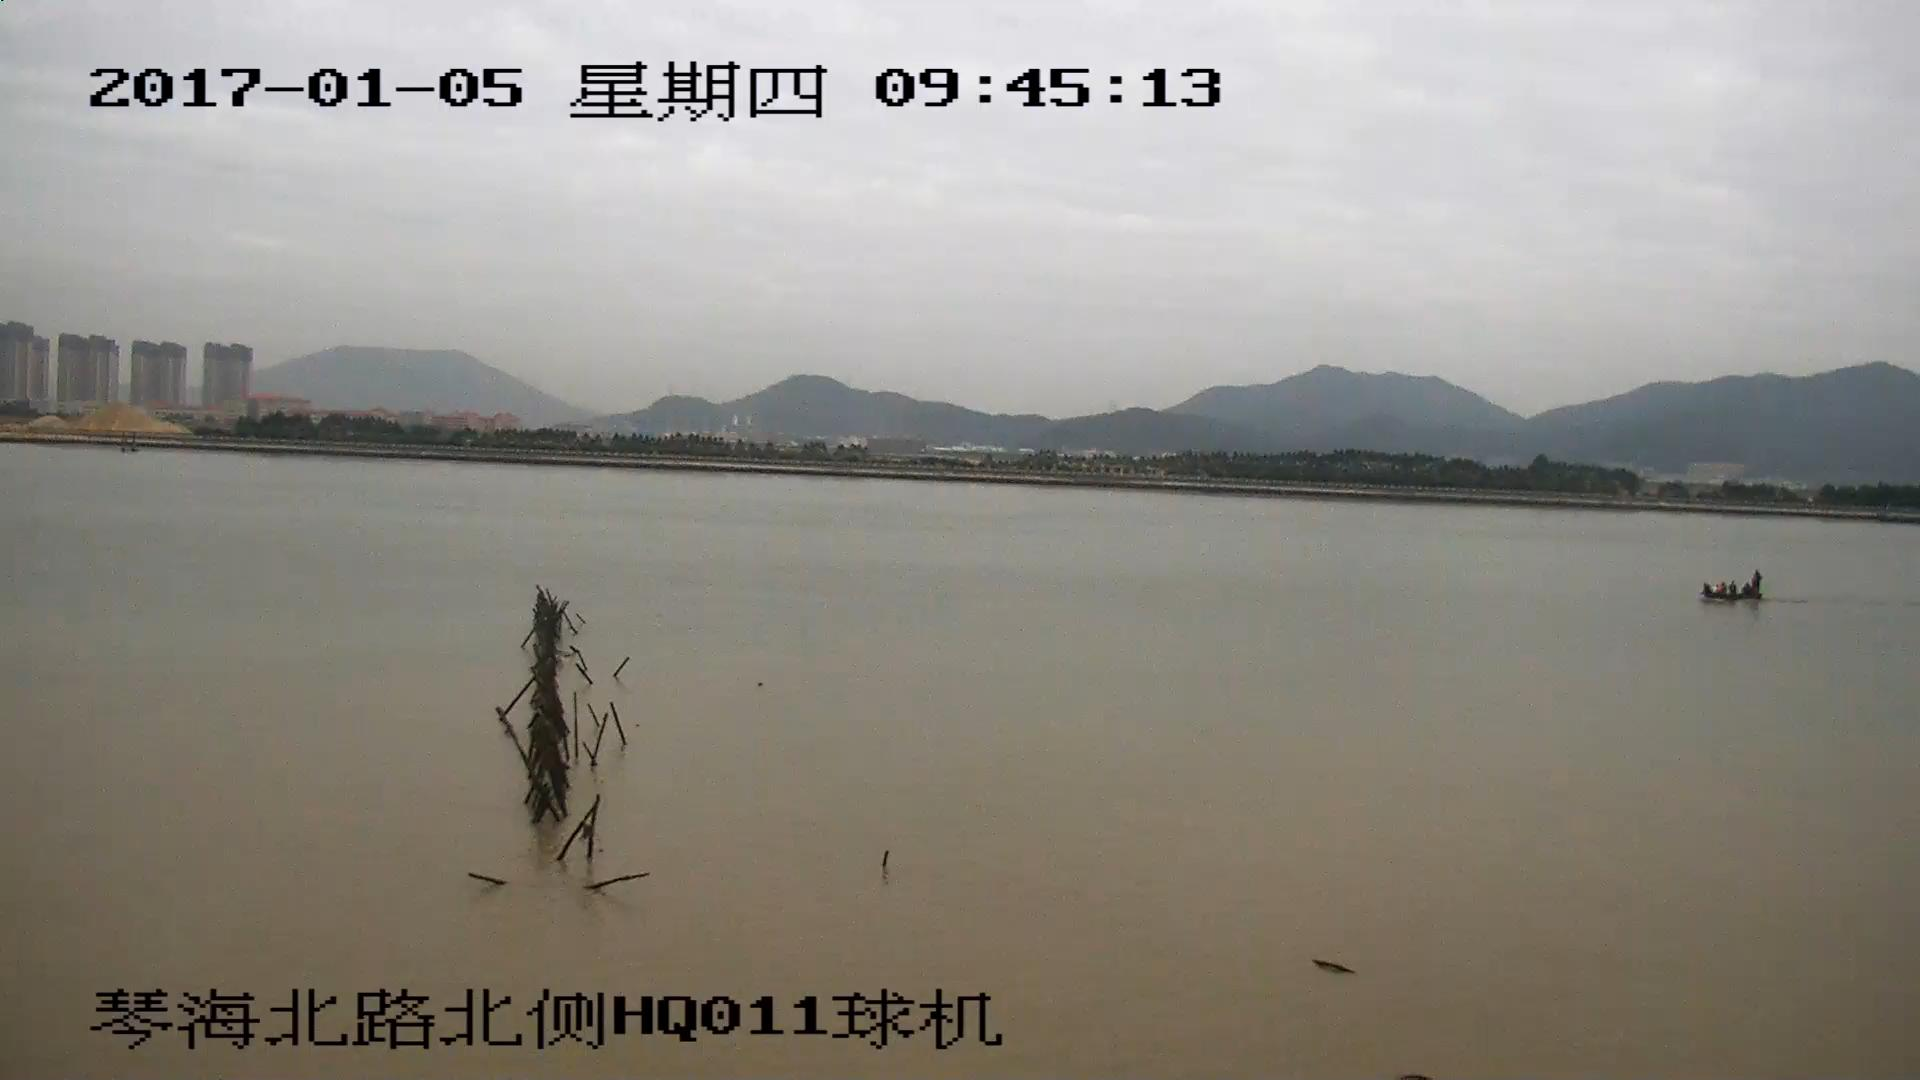fishing boat: (1695, 565, 1770, 605)
